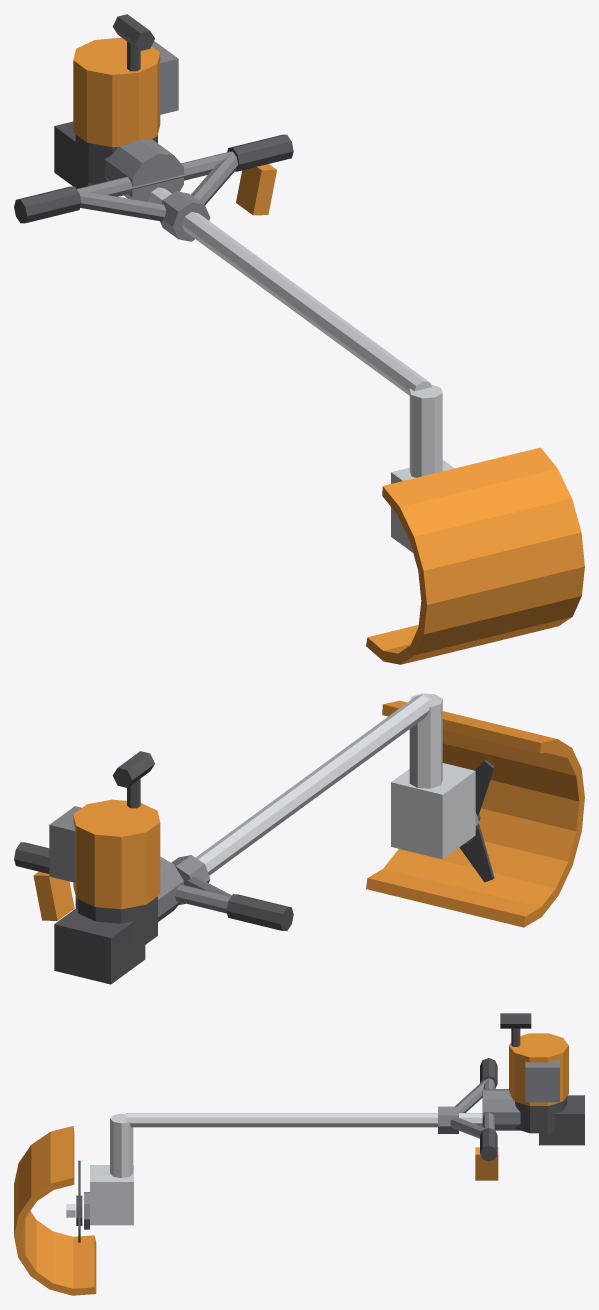
The model's file is desbrozadora_fs560.glb.
3 renders of one model, top to bottom at view 1: azimuth 30°, elevation 25°; view 2: azimuth 150°, elevation 25°; view 3: azimuth 270°, elevation 25°, orthographic. The views are drawn at different scales.
Parts seen in each view (by area): view 1: Protector, MotorCarcasa, Tubo, CajaMotor, Codo, EmpuñaduraIzq, Acelerador, BarraTravesano, BarraIzq, EmpuñaduraDer, Deposito, Abrazadera (+4 smaller); view 2: Protector, MotorCarcasa, Tubo, CajaEngranajes, Deposito, Codo, MotorBase, CajaFiltro, EmpuñaduraIzq, Acelerador, CajaMotor, BarraTravesano (+5 smaller); view 3: Protector, Tubo, MotorCarcasa, CajaEngranajes, Deposito, CajaFiltro, Codo, CajaMotor, MotorBase, Acelerador, EmpuñaduraDer, TiradorPuno (+4 smaller).
Part boxes in pixels (<box>): Protector: <box>366,447,584,664</box>; MotorCarcasa: <box>73,37,160,147</box>; Tubo: <box>148,187,431,395</box>; CajaMotor: <box>104,139,183,201</box>; Codo: <box>409,384,442,477</box>; EmpuñaduraIzq: <box>14,186,81,223</box>; Acelerador: <box>236,164,276,215</box>; BarraTravesano: <box>77,151,233,196</box>; BarraIzq: <box>77,190,166,221</box>; EmpuñaduraDer: <box>227,134,293,171</box>; Deposito: <box>54,121,94,188</box>; Abrazadera: <box>160,191,210,241</box>; Protector: <box>366,700,584,927</box>; MotorCarcasa: <box>73,799,160,909</box>; Tubo: <box>196,694,431,875</box>; CajaEngranajes: <box>391,763,475,859</box>; Deposito: <box>54,908,145,984</box>; Codo: <box>409,693,442,788</box>; MotorBase: <box>75,896,157,947</box>; CajaFiltro: <box>49,806,81,882</box>; EmpuñaduraIzq: <box>226,894,293,930</box>; Acelerador: <box>33,871,74,920</box>; CajaMotor: <box>158,856,183,921</box>; BarraTravesano: <box>175,884,230,913</box>; Protector: <box>14,1126,96,1295</box>; Tubo: <box>125,1113,482,1127</box>; MotorCarcasa: <box>509,1033,568,1105</box>; CajaEngranajes: <box>90,1165,133,1225</box>; Deposito: <box>539,1095,584,1145</box>; CajaFiltro: <box>525,1059,559,1102</box>; Codo: <box>110,1113,133,1178</box>; CajaMotor: <box>483,1089,520,1130</box>; MotorBase: <box>515,1096,567,1133</box>; Acelerador: <box>475,1147,498,1180</box>; EmpuñaduraDer: <box>480,1128,497,1161</box>; TiradorPuno: <box>500,1013,531,1028</box>.
Bounding box in the file's own units: 0.54 × 0.7314 × 1.48.
